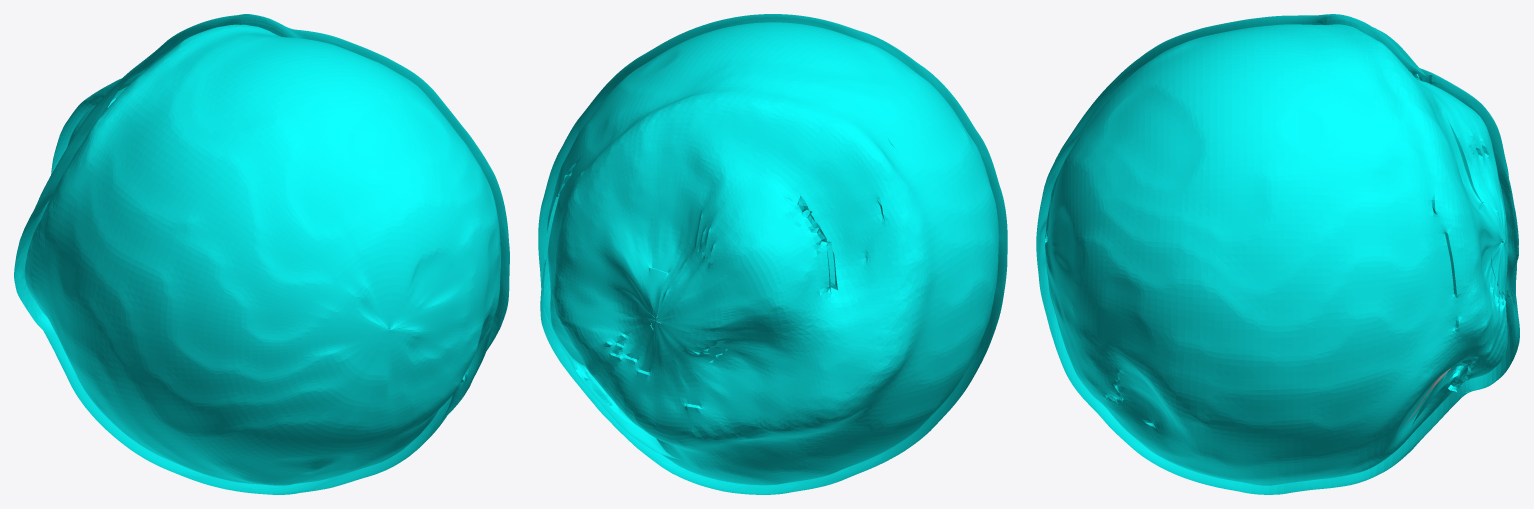
3 renders of one model, left to right at view 1: azimuth 30°, elevation 25°; view 2: azimuth 150°, elevation 25°; view 3: azimuth 270°, elevation 25°, orthographic.
Visible parts, largest first — view 1: Renderer Node; view 2: Renderer Node; view 3: Renderer Node.
Boxes of the visible parts, x1,y1,x2,y2 form: Renderer Node: [14, 14, 509, 494]; Renderer Node: [538, 14, 1007, 494]; Renderer Node: [1036, 14, 1519, 494].
Size of the model in its own units: 1.08e+16 by 1.08e+16 by 1.09e+16.
